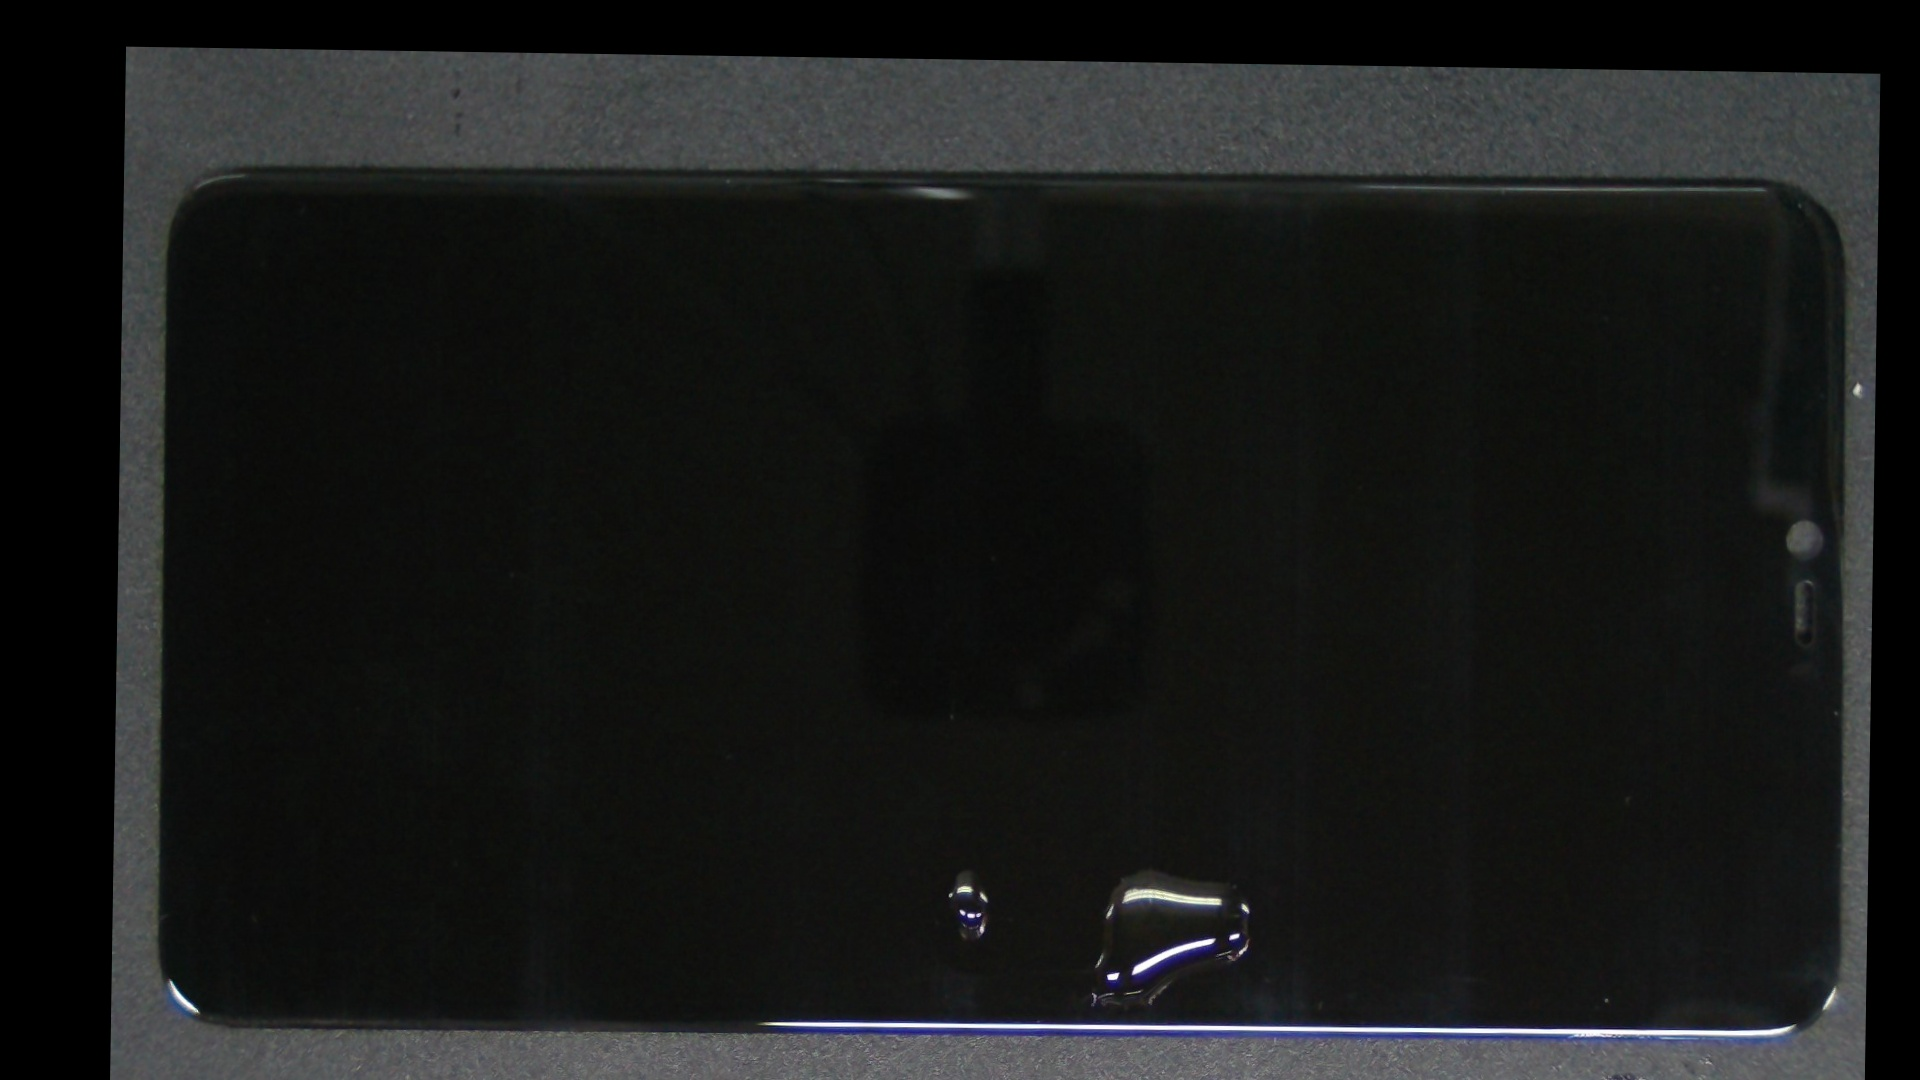oil: (624, 458, 1662, 1080), (537, 458, 1398, 1080)
